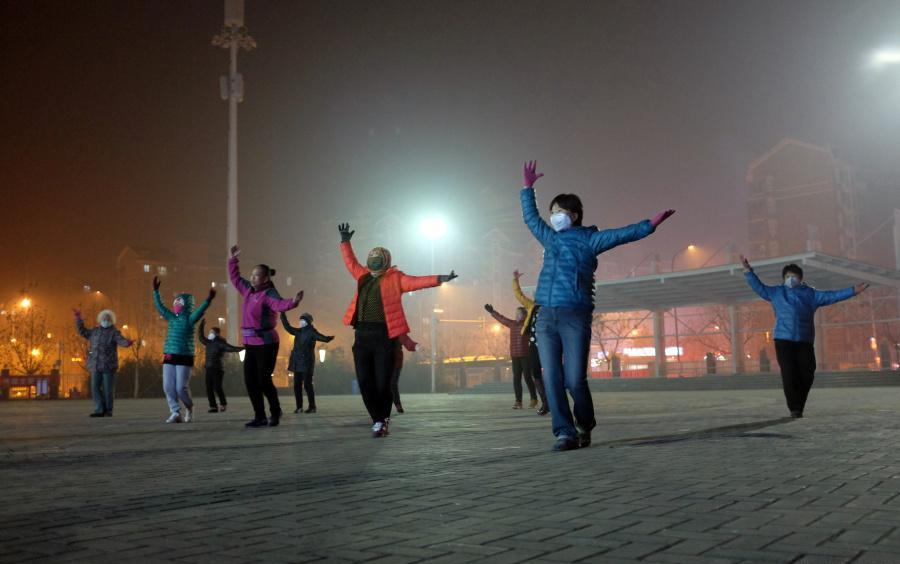person: (520, 158, 676, 450), (337, 220, 457, 438), (738, 252, 871, 420), (227, 244, 304, 428), (511, 268, 589, 415), (152, 275, 217, 424), (71, 307, 136, 418), (484, 303, 550, 410), (362, 301, 421, 414), (279, 306, 335, 414), (197, 318, 247, 413)
